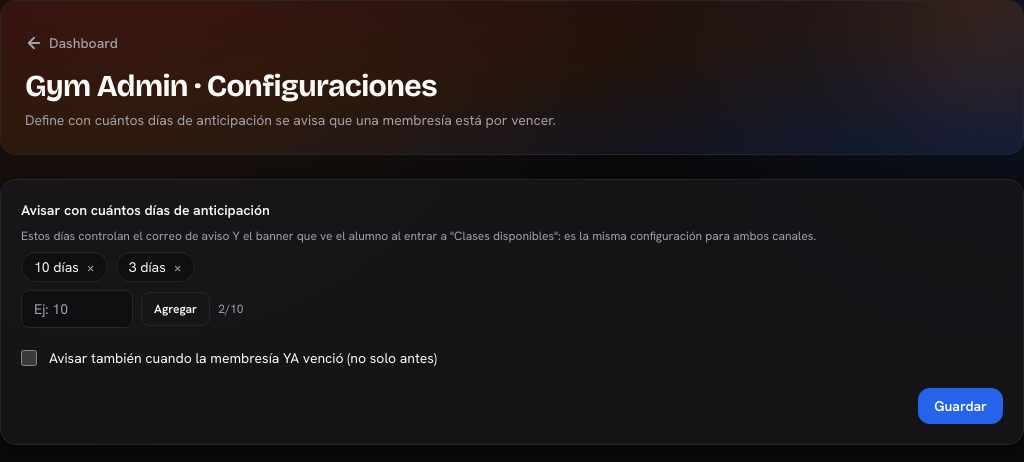
Test: GymAdminExpiryNotificationConfigPage — agregar días (validación en la UI) › agrega un valor válido como chip nuevo
Expected: the text "10 días" is shown, [21,252,108,282]
Type "5" into the number field named "Días de anticipación a agregar" at (77, 309), box [21,290,133,328]
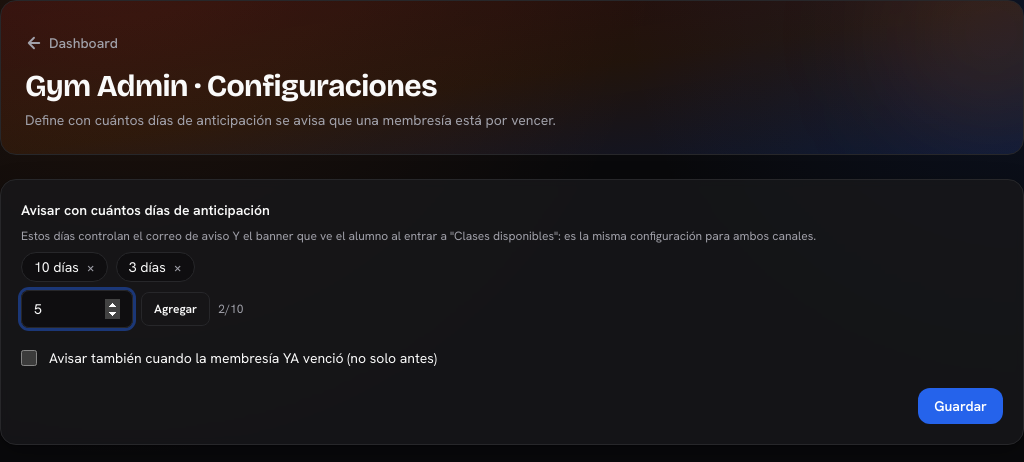
Click the button "Agregar" at (176, 309), box [141,292,210,326]
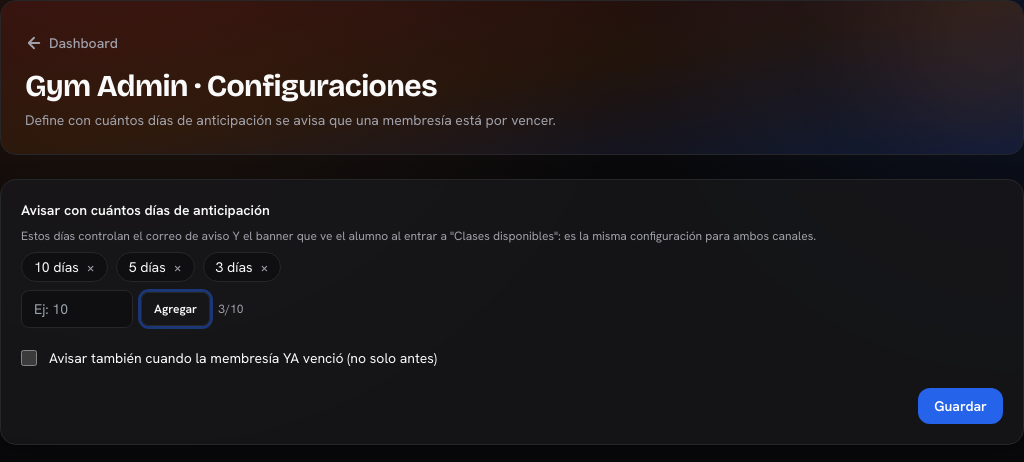
Expected: the text "5 días" is shown, [116,252,195,282]
